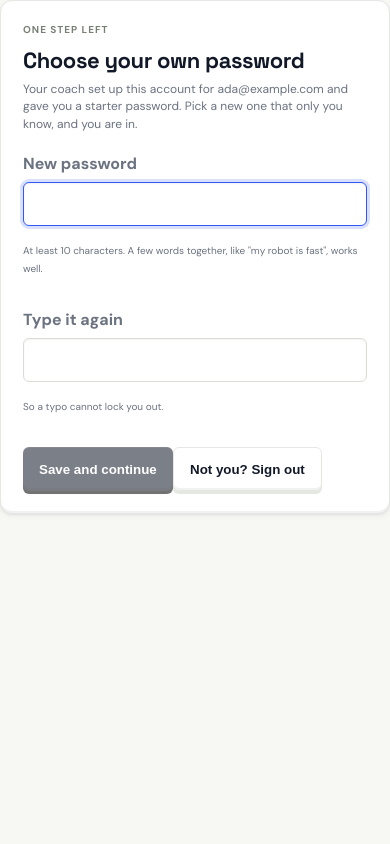
it: PasswordSetupGate › surfaces a server refusal instead of pretending it worked
In the password field labelled "New password": (195, 204) x1=23 y1=182 x2=367 y2=226, type "my robot is fast"
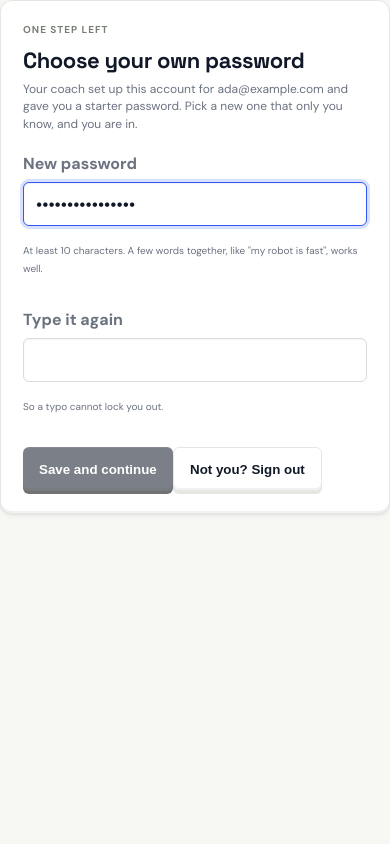
In the password field labelled "Type it again": (195, 360) x1=23 y1=338 x2=367 y2=382, type "my robot is fast"
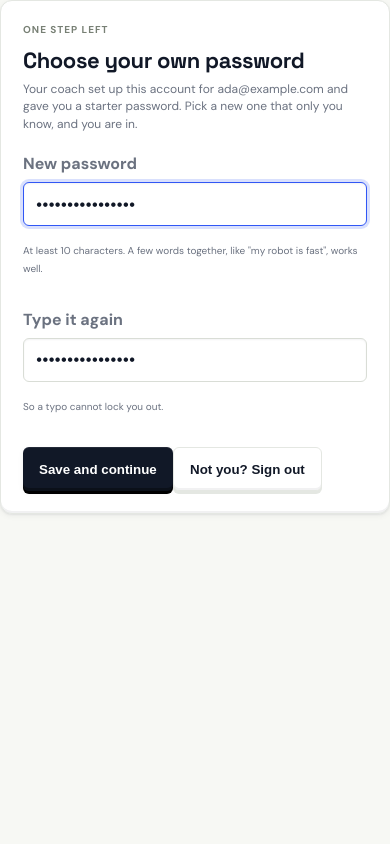
Click the button "Save and continue": (98, 469) x1=23 y1=447 x2=173 y2=491
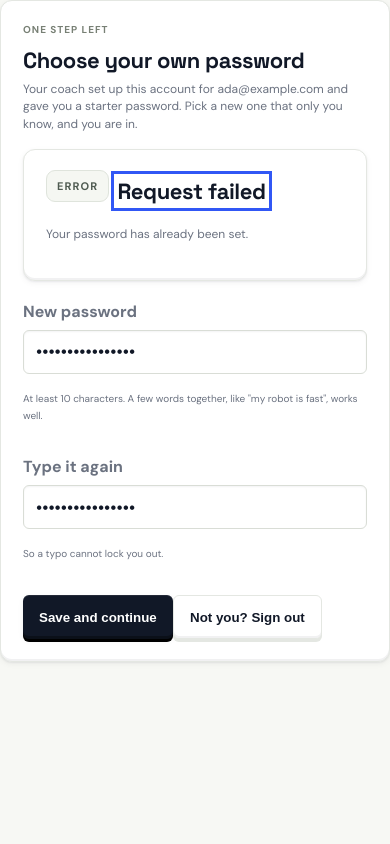
Expected: the message "ERROR Request failed Your password has already been set." is shown, x1=23 y1=149 x2=367 y2=281
